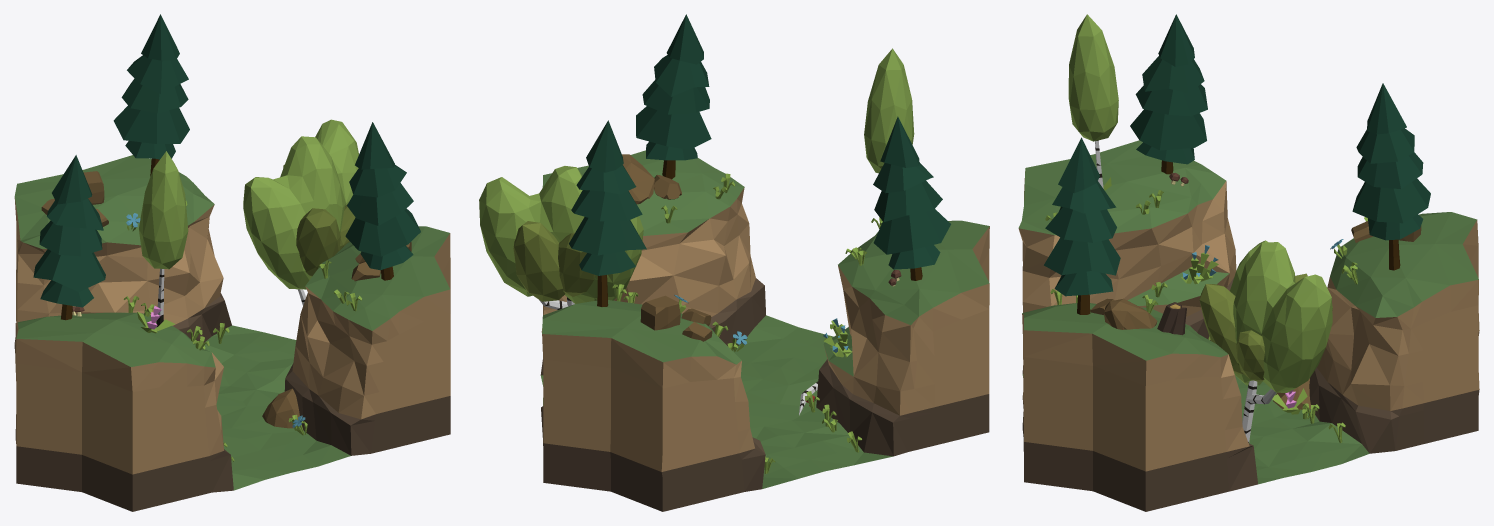
Rendered from YCorridor - Mesh.fbx.
3 views of the same model, side by side, from view 1: azimuth 30°, elevation 25°; view 2: azimuth 150°, elevation 25°; view 3: azimuth 270°, elevation 25° (orthographic). The views are drawn at different scales.
Visible parts, largest first — view 1: YCorridor - Mesh; view 2: YCorridor - Mesh; view 3: YCorridor - Mesh.
Part boxes in pixels (<box>): YCorridor - Mesh: <box>14,14,450,511</box>; YCorridor - Mesh: <box>479,14,989,511</box>; YCorridor - Mesh: <box>1018,14,1479,511</box>.
Size of the model in its own units: 2733 by 2112 by 2399.
